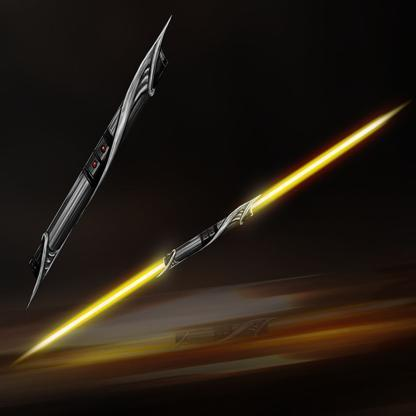lightsaber: (10, 104, 410, 368)
